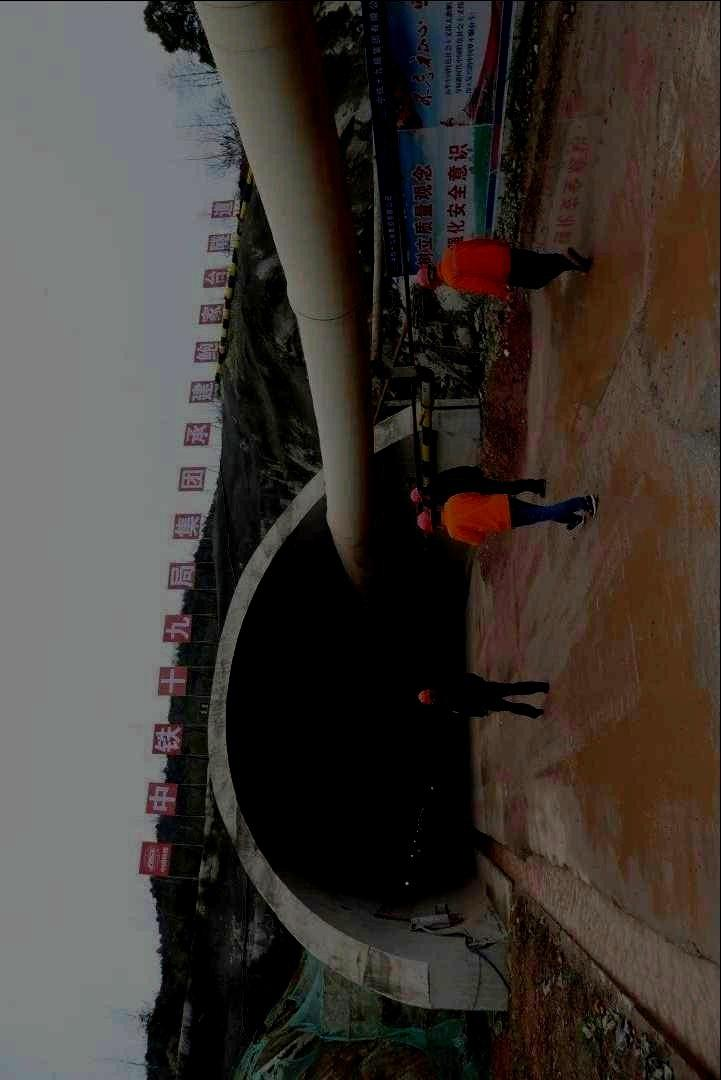helmet: (415, 262, 444, 290), (416, 506, 444, 534), (410, 486, 433, 505), (417, 687, 438, 704)
